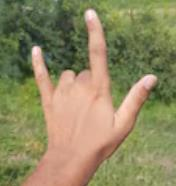back: (28, 8, 159, 157)
